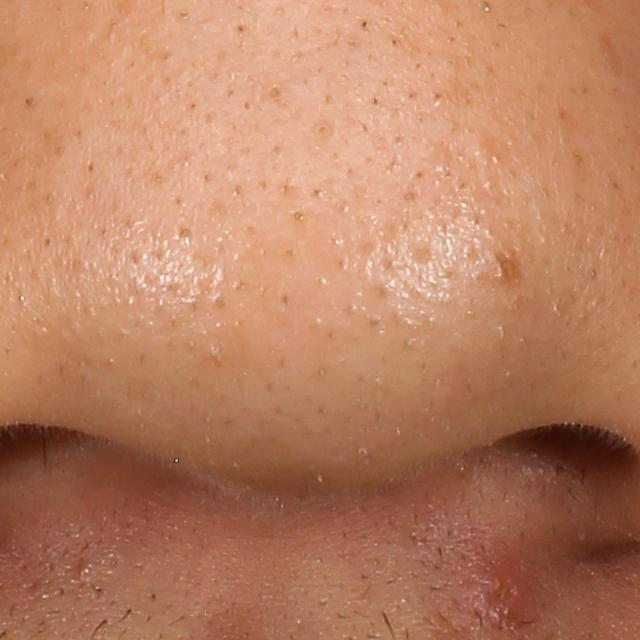comedo: (166, 221, 194, 246), (310, 123, 331, 137)
nevus: (484, 248, 528, 289)
